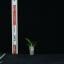leaf: (23, 38, 31, 45), (32, 42, 38, 45), (26, 44, 31, 46), (32, 44, 37, 46), (31, 41, 33, 45), (33, 45, 37, 46)
